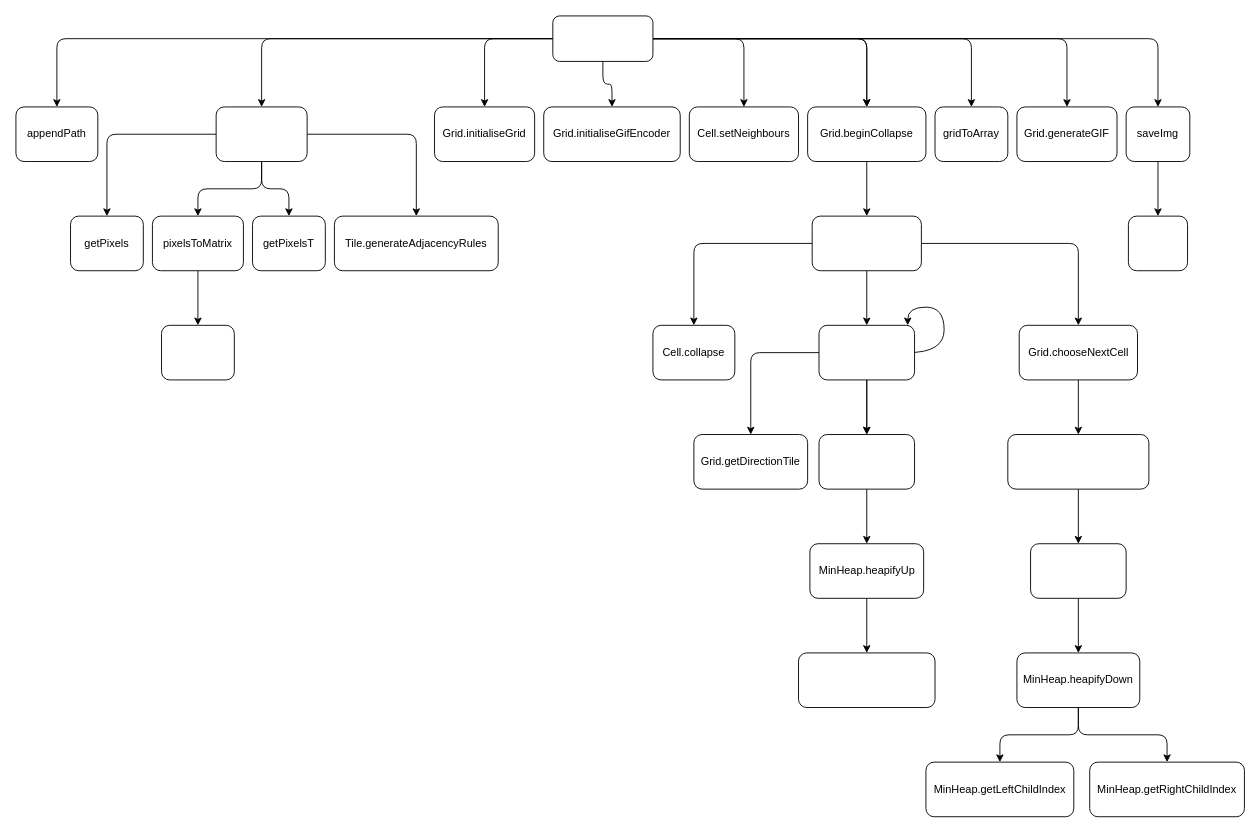
This 1260x833 diagram has some shape labels left out. Each missing label, with the centre of its shape:
arrToImg: the point at 1157,243
getPixelValues: the point at 261,134
Grid.collapse: the point at 866,243
Grid.propagate: the point at 866,352
main: the point at 602,38
MinHeap.getParentIndex: the point at 866,680
MinHeap.heapify: the point at 1078,570
MinHeap.insert: the point at 866,461
MinHeap.removeElement: the point at 1078,461
rgbToHex: the point at 197,352
